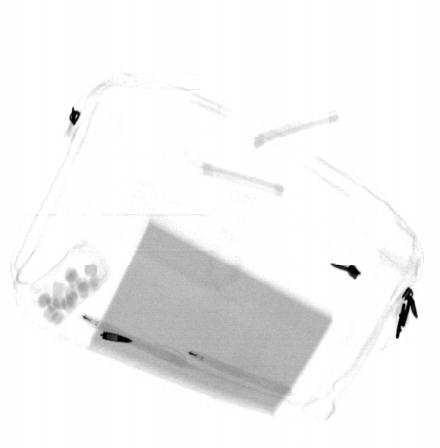Bullet: (98, 330, 136, 344)
